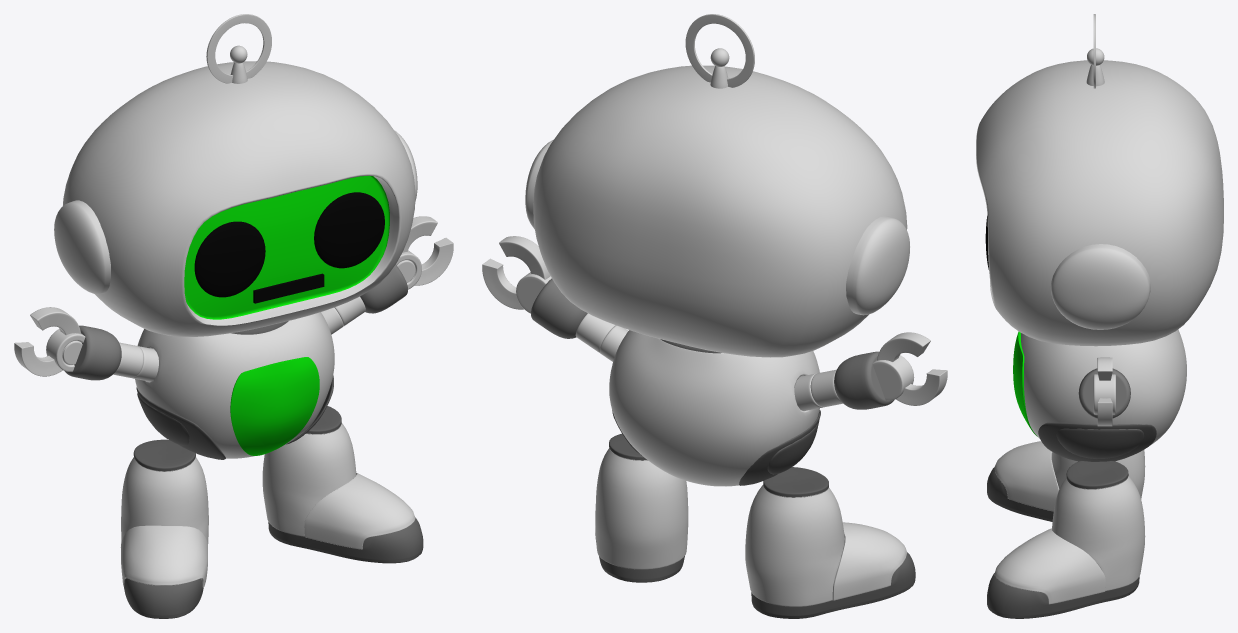
Rendered from Chatbot_V05.fbx.
The picture shows the model from 3 angles, left to right: view 1: azimuth 30°, elevation 25°; view 2: azimuth 150°, elevation 25°; view 3: azimuth 270°, elevation 25°; orthographic projection. The views are drawn at different scales.
Parts seen in each view (by area): view 1: Body, Foot, Hands, REye1, LEye, Ring, Mouth; view 2: Body, Foot, Hands, Ring; view 3: Body, Foot, Hands.
Part boxes in pixels (x1,y1,x2,y2): Body: [54, 45, 417, 459]; Foot: [120, 406, 423, 618]; Hands: [14, 216, 453, 381]; REye1: [194, 221, 265, 297]; LEye: [314, 192, 384, 268]; Ring: [206, 14, 271, 83]; Mouth: [253, 273, 324, 303]; Body: [525, 48, 909, 486]; Foot: [595, 433, 915, 618]; Hands: [482, 236, 947, 410]; Ring: [685, 14, 754, 87]; Body: [976, 48, 1223, 461]; Foot: [987, 441, 1145, 618]; Hands: [1078, 357, 1130, 426].
Bounding box in the file's own units: 7.48 × 8.85 × 3.73.
